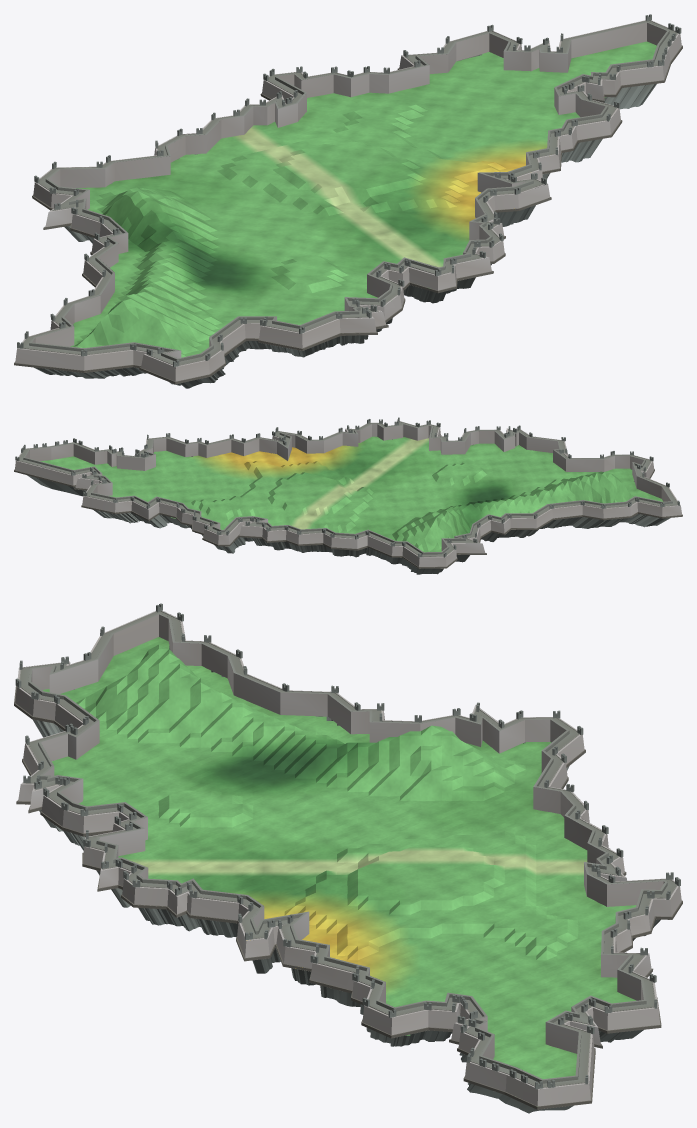
3 views of the same model, one above another, from view 1: azimuth 30°, elevation 25°; view 2: azimuth 150°, elevation 25°; view 3: azimuth 270°, elevation 25° (orthographic). The views are drawn at different scales.
Visible parts, largest first — view 1: ground_46ac39e9; view 2: ground_46ac39e9; view 3: ground_46ac39e9.
Boxes of the visible parts, x1,y1,x2,y2 form: ground_46ac39e9: (14,14,682,388); ground_46ac39e9: (14,417,682,574); ground_46ac39e9: (14,603,682,1113).
Size of the model in its own units: 164 by 10.84 by 95.74.
3 materials, 1 textured.
